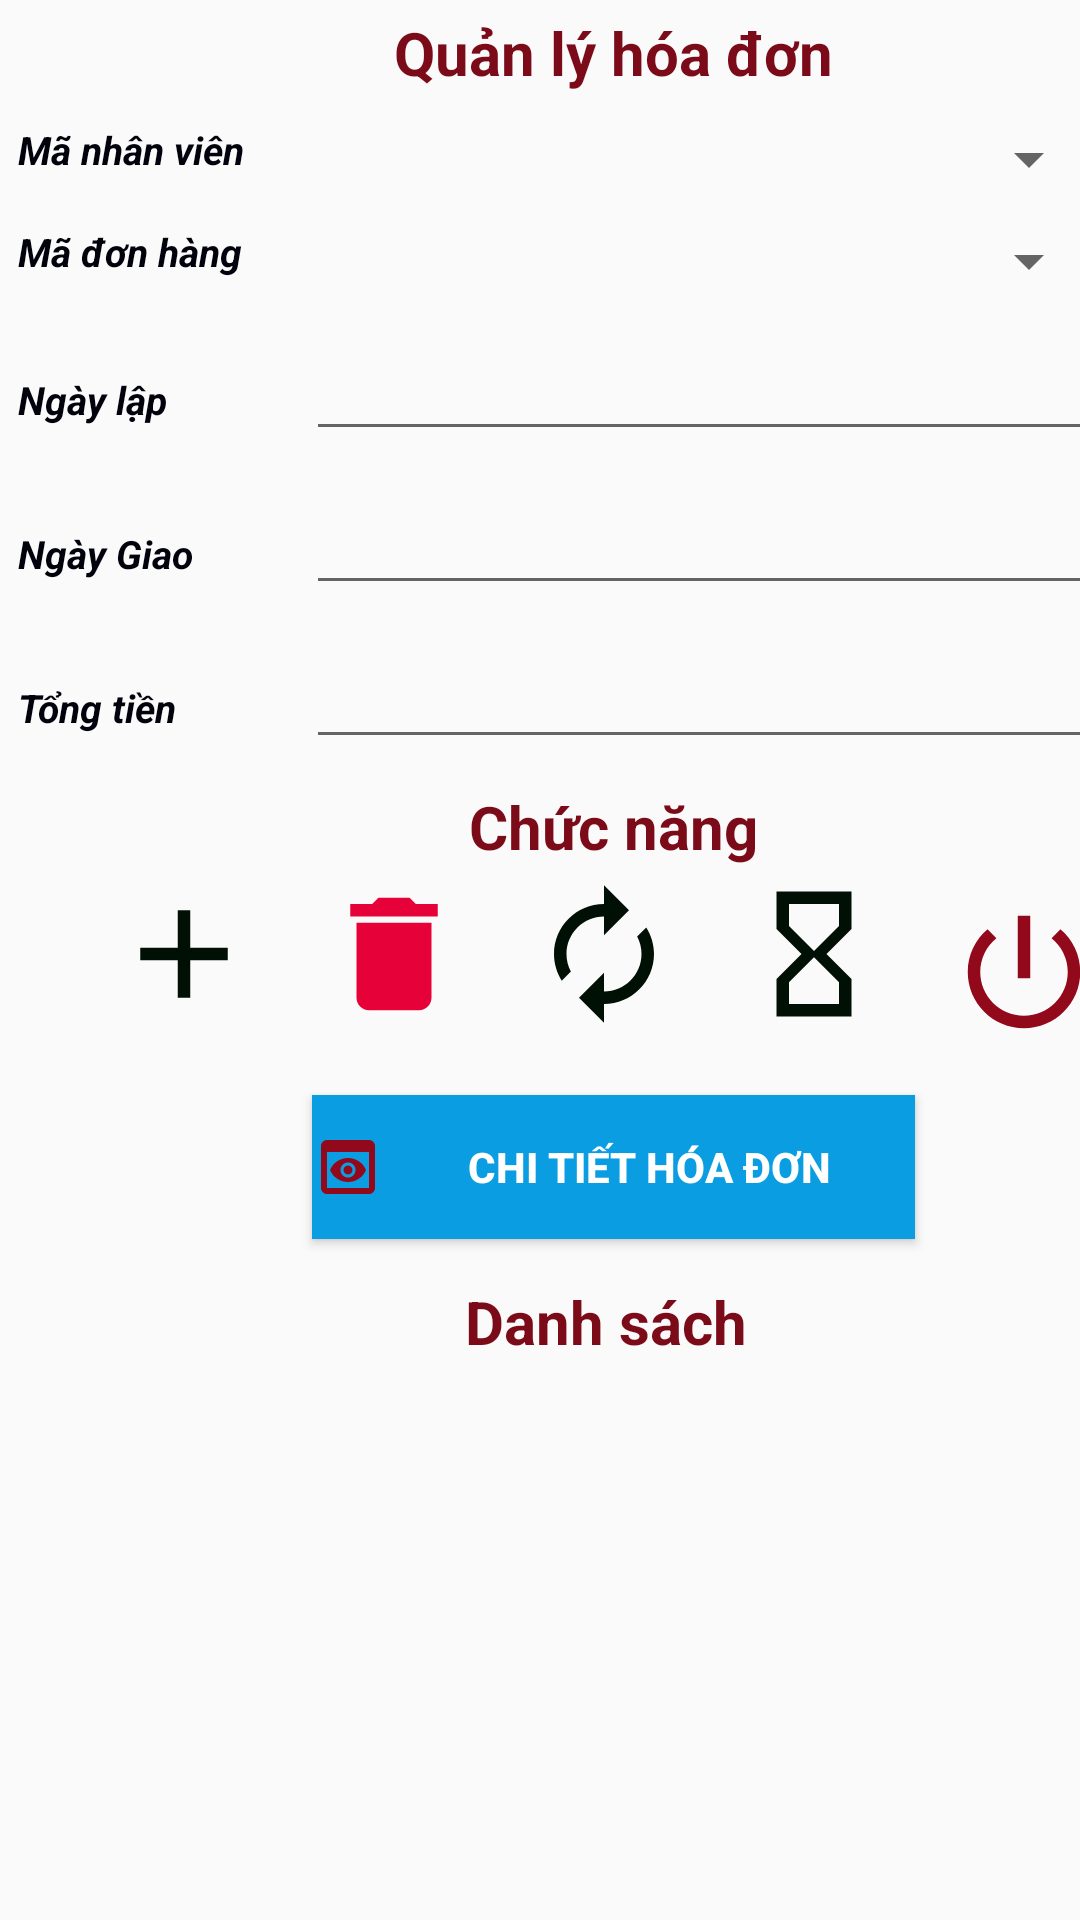

Icons on this 1080px×1920px Android screen, each with its box as (x1=x1, y1=y1, x2=x2, y2=y2):
add: (x1=140, y1=910, x2=228, y2=998)
delete: (x1=350, y1=897, x2=438, y2=1011)
update: (x1=554, y1=885, x2=654, y2=1023)
